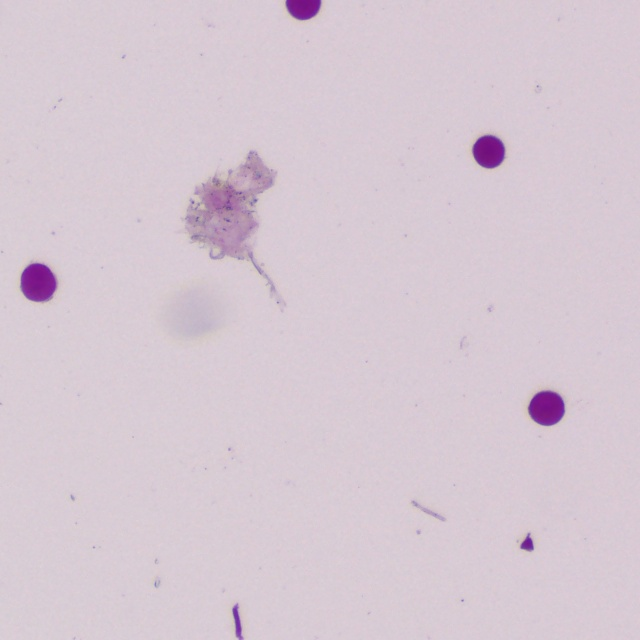viable: (21, 264, 56, 301), (529, 391, 564, 425), (473, 136, 504, 168), (287, 1, 321, 19), (234, 604, 243, 639), (521, 534, 533, 551)
